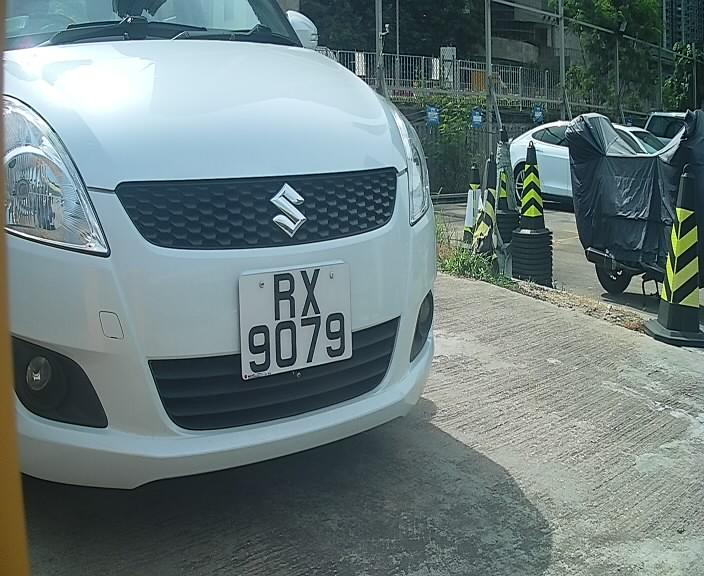Car: (1, 1, 466, 533)
License Plate: (230, 253, 362, 391)
